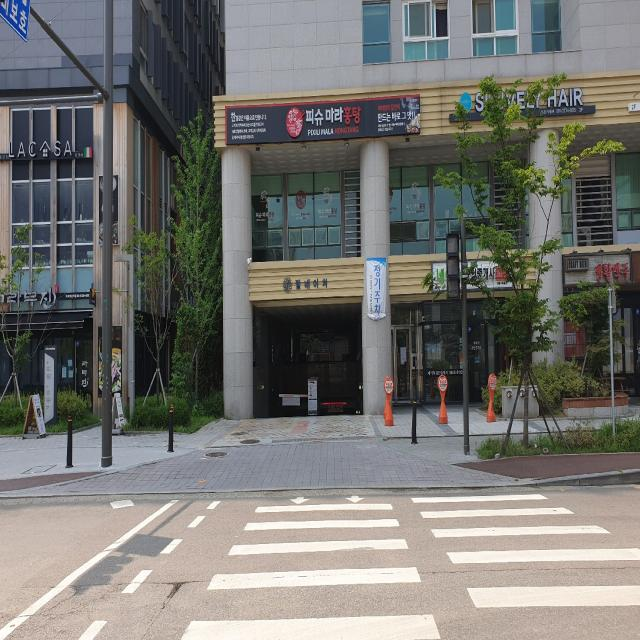횡단보도: (180, 493, 640, 640)
